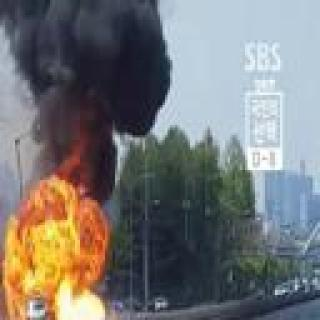fire: (7, 208, 99, 320)
